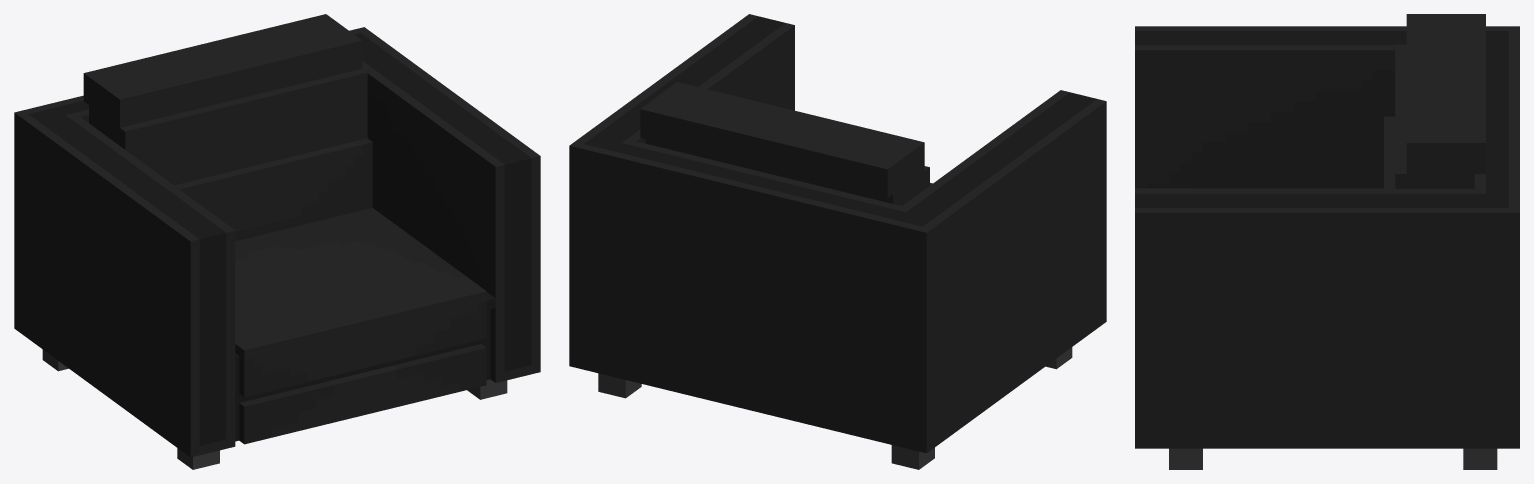
File: mini_sofa.obj
The picture shows the model from 3 angles, left to right: view 1: azimuth 30°, elevation 25°; view 2: azimuth 150°, elevation 25°; view 3: azimuth 270°, elevation 25°; orthographic projection. The views are drawn at different scales.
Size of the model in its own units: 3.9 by 3 by 3.4.
Materials: 1 (1 with a texture image).
